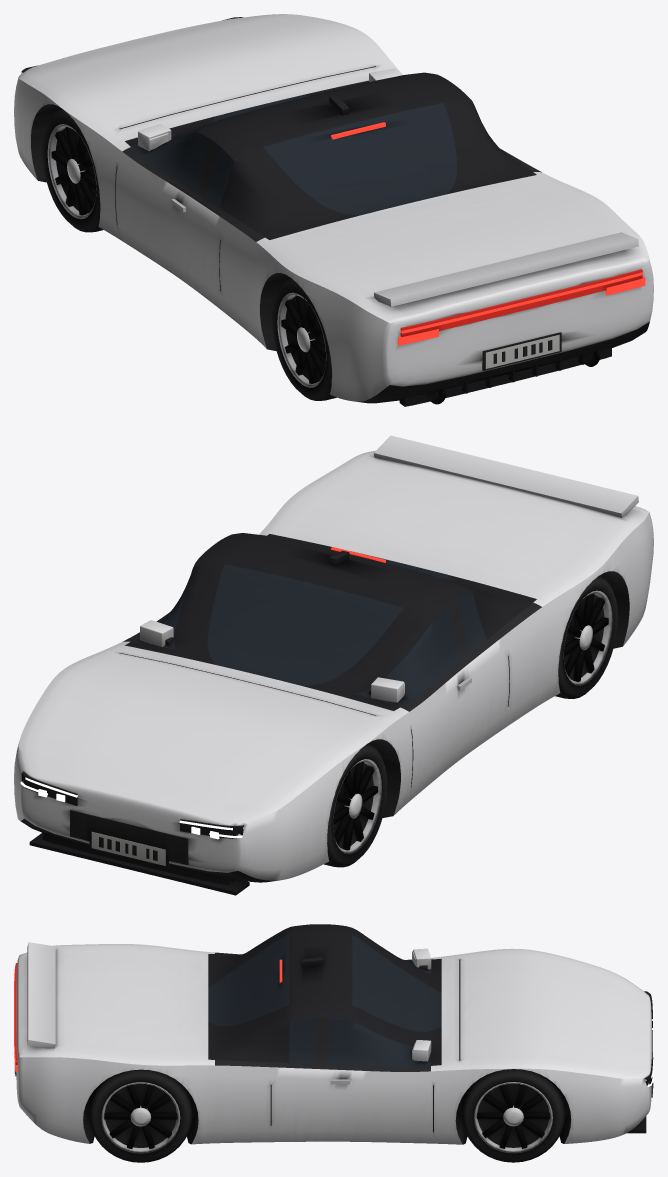
File: solstice.glb
The picture shows the model from 3 angles, top to bottom: view 1: azimuth 30°, elevation 25°; view 2: azimuth 150°, elevation 25°; view 3: azimuth 270°, elevation 25°; orthographic projection. The views are drawn at different scales.
Visible parts, largest first — view 1: Body, Details, Wheel_RL, Wheel_FL, Rounded; view 2: Body, Details, Wheel_FL, Wheel_RL, Rounded; view 3: Body, Wheel_FR, Wheel_RR, Details, Rounded.
Boxes of the visible parts, left/top/right/bottom form: Body: left=14, top=14, right=653, bottom=403; Details: left=21, top=17, right=645, bottom=406; Wheel_RL: left=272, top=278, right=336, bottom=400; Wheel_FL: left=42, top=109, right=103, bottom=232; Rounded: left=138, top=68, right=401, bottom=151; Body: left=14, top=450, right=653, bottom=882; Details: left=20, top=435, right=638, bottom=895; Wheel_FL: left=324, top=744, right=387, bottom=867; Wheel_RL: left=555, top=576, right=617, bottom=698; Rounded: left=140, top=550, right=404, bottom=702; Body: left=16, top=924, right=651, bottom=1144; Wheel_FR: left=461, top=1069, right=565, bottom=1162; Wheel_RR: left=89, top=1069, right=192, bottom=1162; Details: left=14, top=942, right=653, bottom=1133; Rounded: left=300, top=948, right=431, bottom=1061.
Size of the model in its own units: 2.08 by 1.2 by 4.64.
